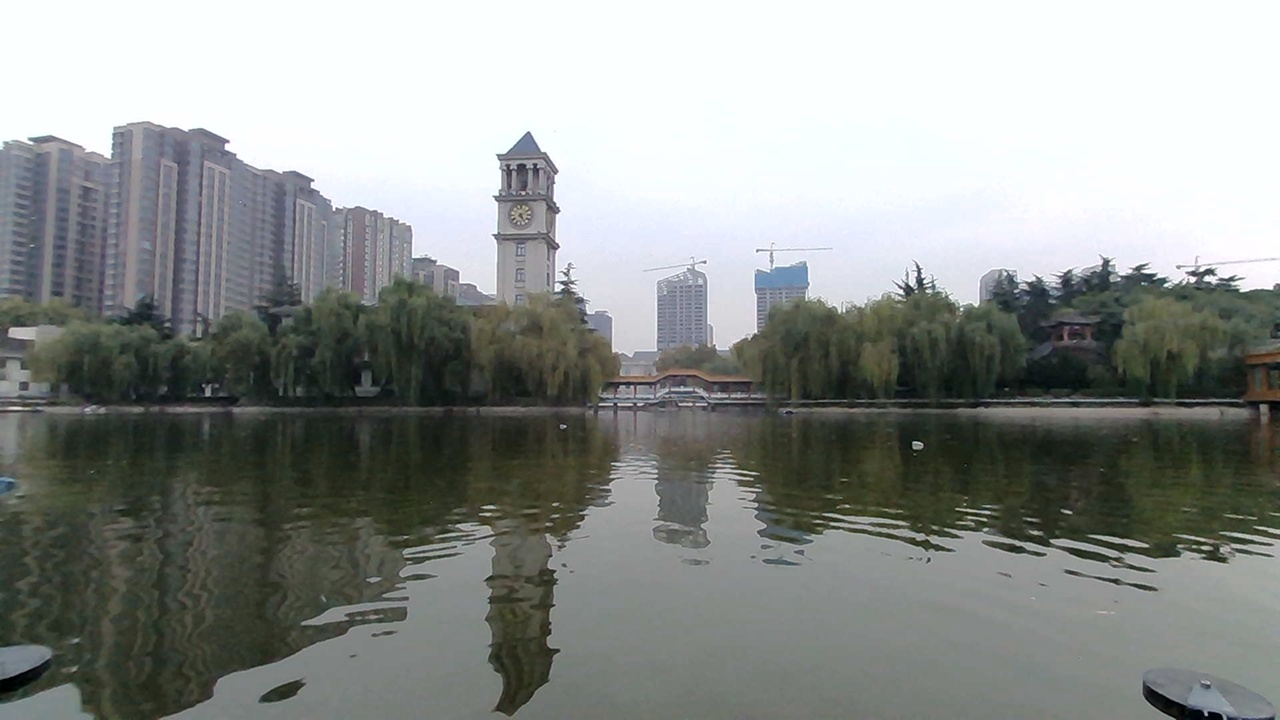bottle: (898, 426, 930, 455)
